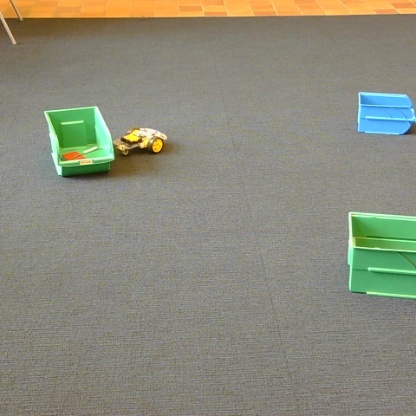robot: (114, 128, 166, 154)
